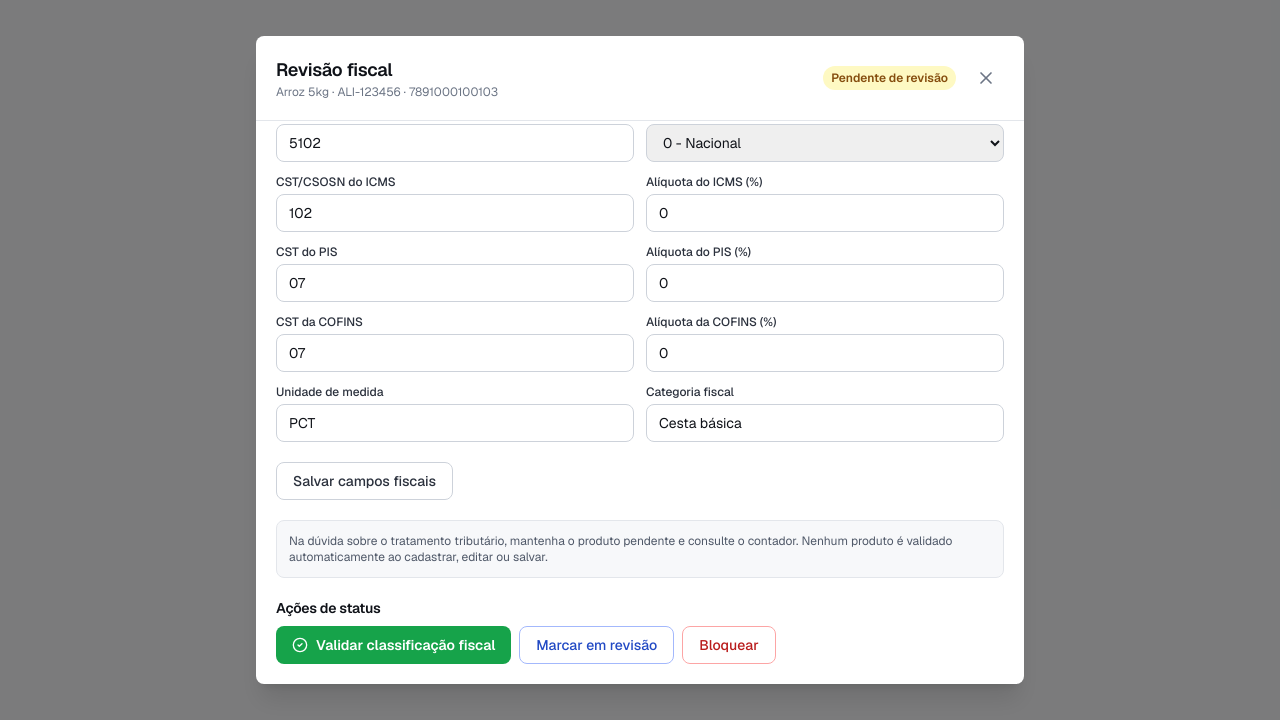
RevisaoFiscalModal › 5. validar chama a RPC e confirma sucesso
Later steps or results of the test are not shown.
(page scrolled)
What coordinates should you click on to do the following:
click the button "Validar classificação fiscal"
I would click on:
 (394, 645)
Its box is x1=276 y1=626 x2=511 y2=664.
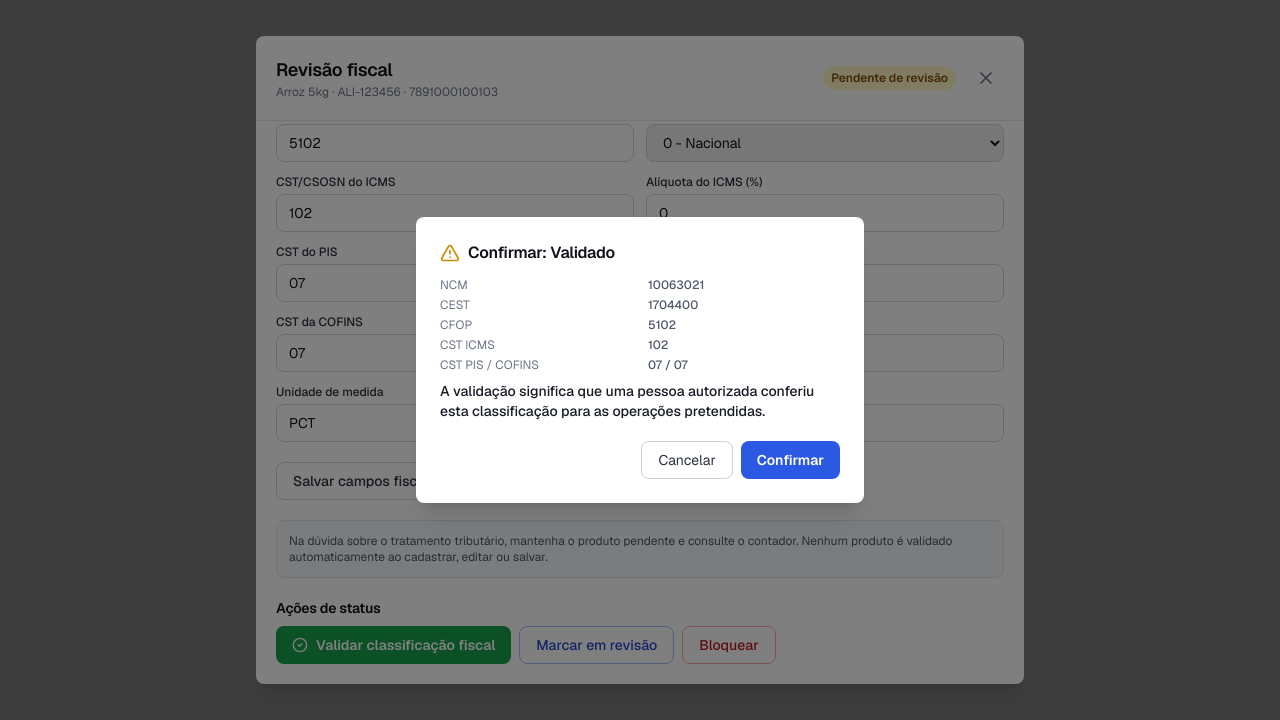
expect the text "pessoa autorizada conferiu esta classificação" is shown: met, box x1=440 y1=382 x2=814 y2=420
